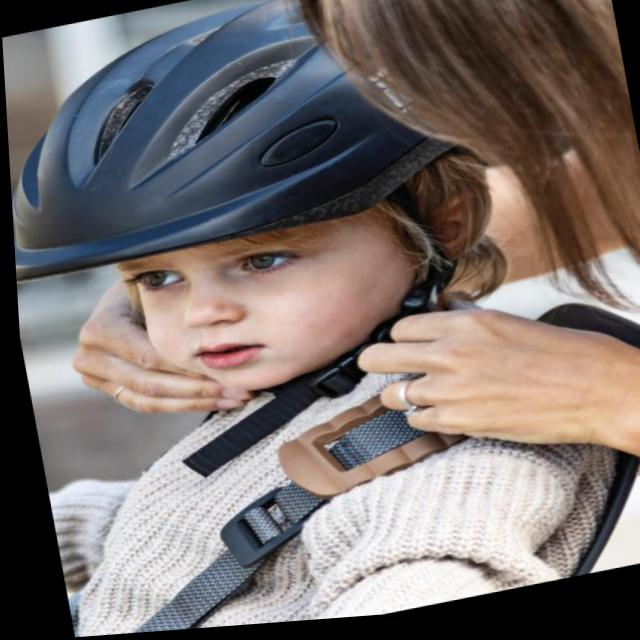helmet: (0, 0, 516, 461)
